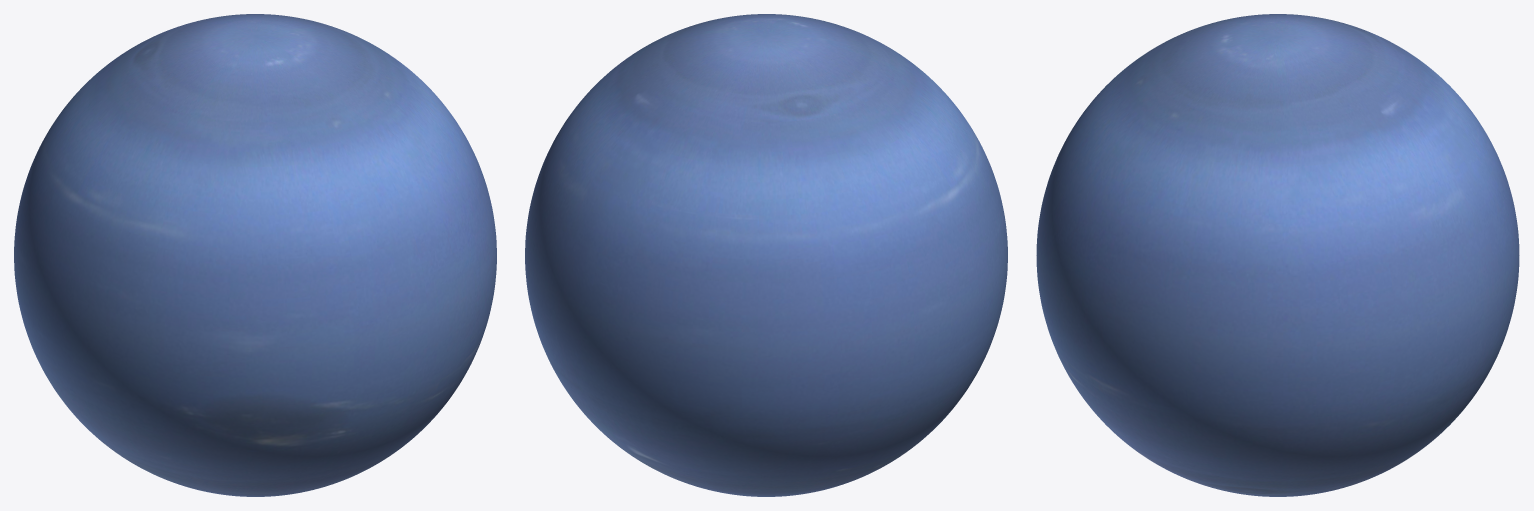
File: neptune.glb
3 views of the same model, side by side, from view 1: azimuth 30°, elevation 25°; view 2: azimuth 150°, elevation 25°; view 3: azimuth 270°, elevation 25° (orthographic).
Parts seen in each view (by area): view 1: Object_2; view 2: Object_2; view 3: Object_2.
Boxes of the visible parts, left/top/right/bottom form: Object_2: left=14, top=14, right=496, bottom=496; Object_2: left=525, top=14, right=1007, bottom=496; Object_2: left=1036, top=14, right=1519, bottom=496.
Bounding box in the file's own units: 2 × 2 × 2.
Materials: 1 (1 with a texture image).
